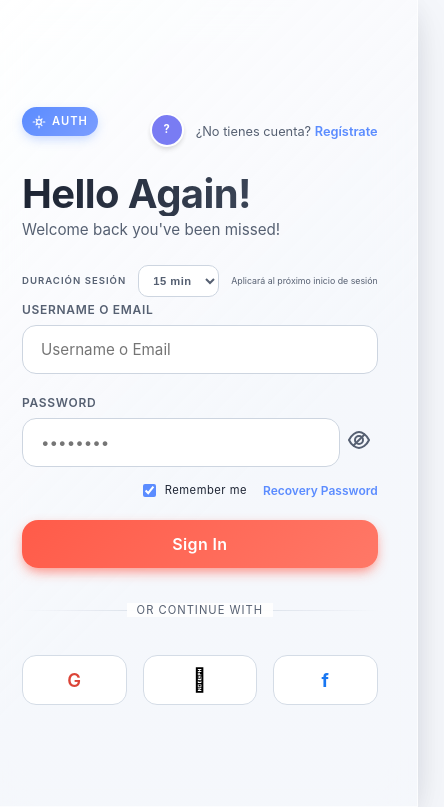
Test: AuthForm mode switching › switches from login to register and back
Expected: the heading "Hello Again!" is shown, x1=22 y1=172 x2=378 y2=216
Click the button "Regístrate": click(346, 131) x1=315 y1=124 x2=378 y2=139
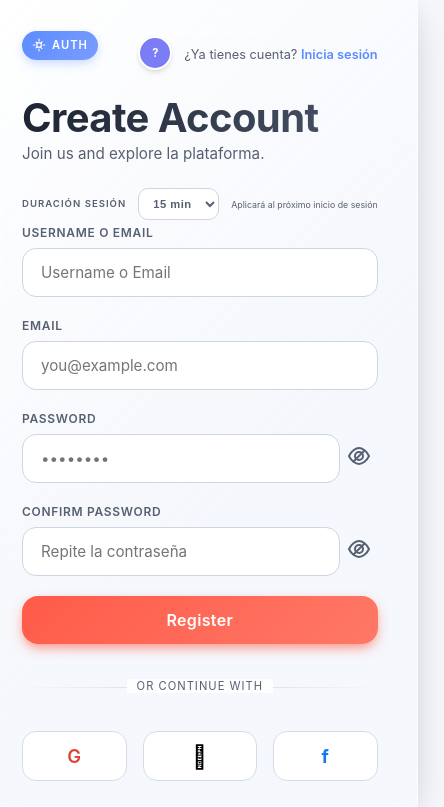
Expected: the heading "Create Account" is shown, x1=22 y1=96 x2=378 y2=140
Click the button "Inicia sesión": click(339, 55) x1=301 y1=47 x2=378 y2=62
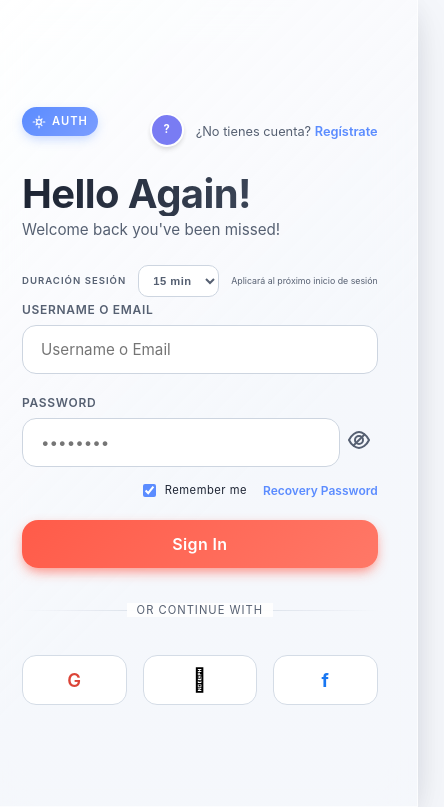
Expected: the heading "Hello Again!" is shown, x1=22 y1=172 x2=378 y2=216
